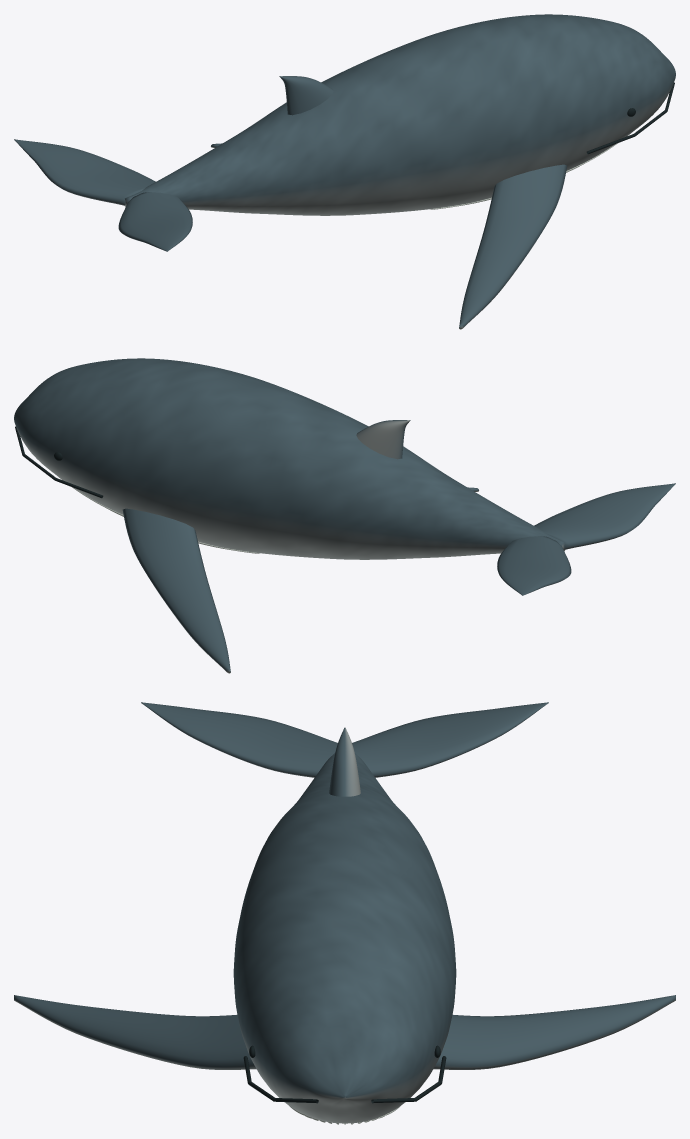
The model's file is whale.glb.
The picture shows the model from 3 angles, top to bottom: view 1: azimuth 30°, elevation 25°; view 2: azimuth 150°, elevation 25°; view 3: azimuth 270°, elevation 25°; orthographic projection. The views are drawn at different scales.
Visible parts, largest first — view 1: whale; view 2: whale; view 3: whale.
Boxes of the visible parts, left/top/right/bottom form: whale: left=14, top=14, right=675, bottom=329; whale: left=14, top=358, right=675, bottom=673; whale: left=14, top=702, right=675, bottom=1124.
Size of the model in its own units: 6.51 by 1.88 by 4.8.
